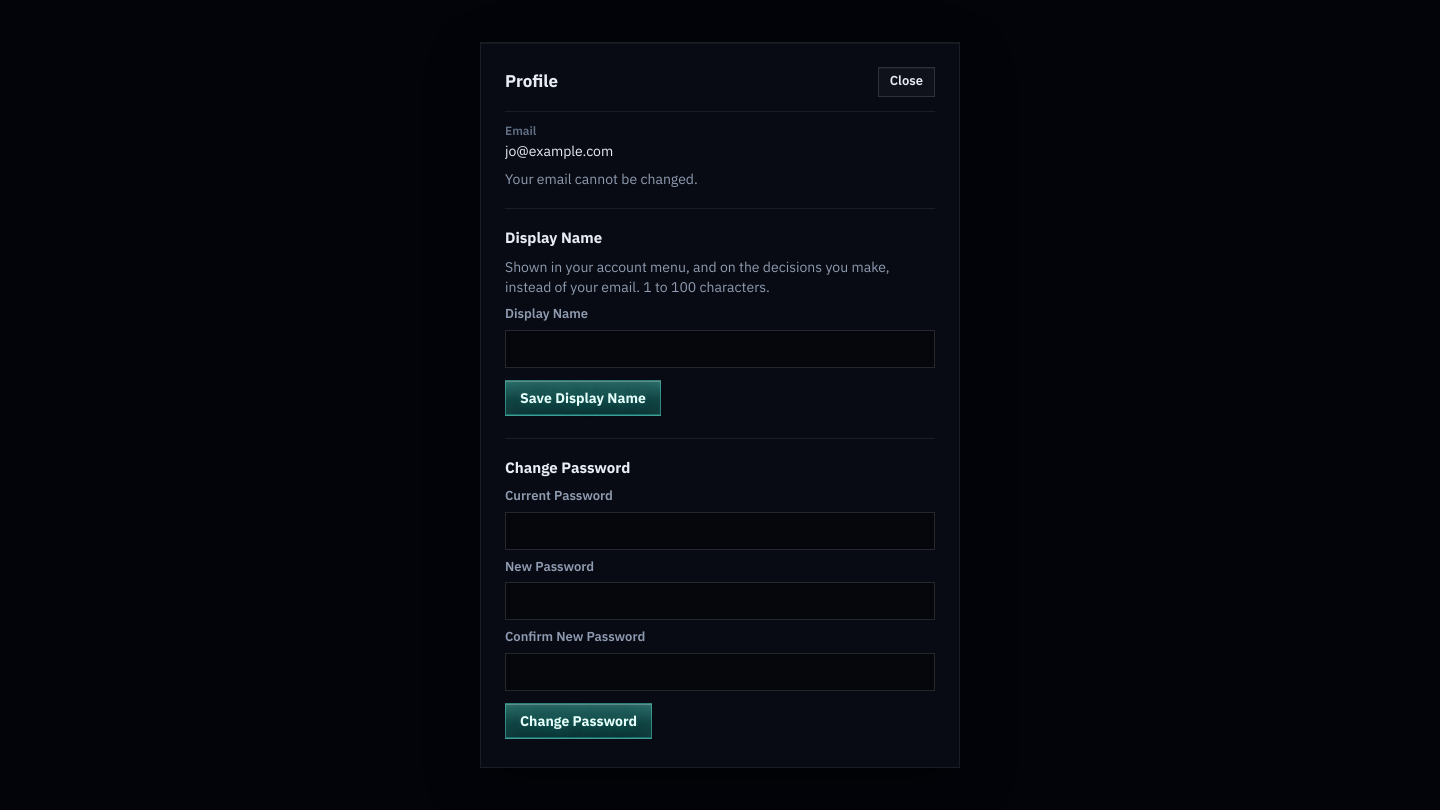
Test case: Profile window: the display name › saves a display name, tells the page the account as it now is, and says it was saved
The image size is (1440, 810).
Type "  Jo Tan " into the field labelled "Display Name" at x=720, y=349, box [505,330,935,368]
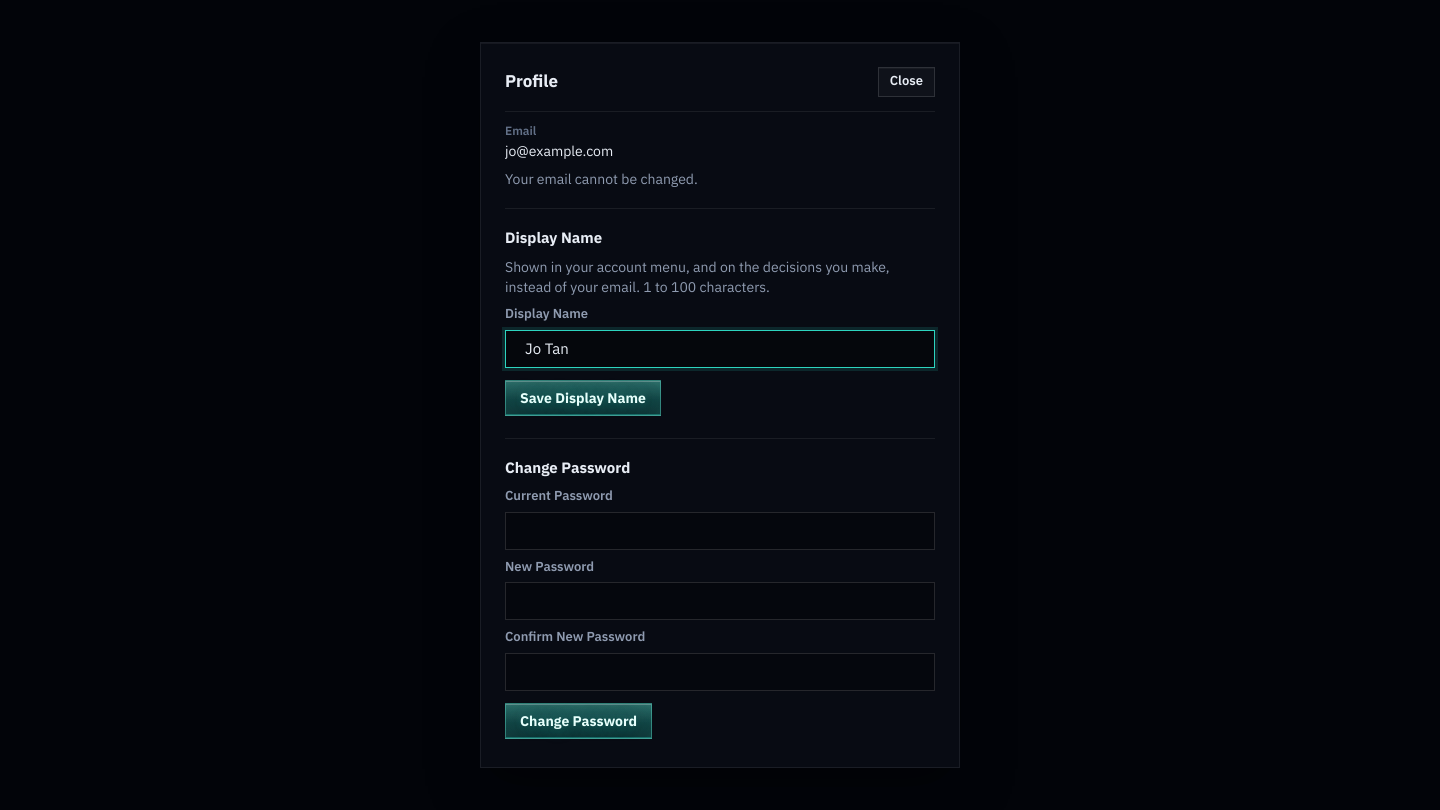
Click the button "Save Display Name" at x=583, y=398, box [505,380,661,416]
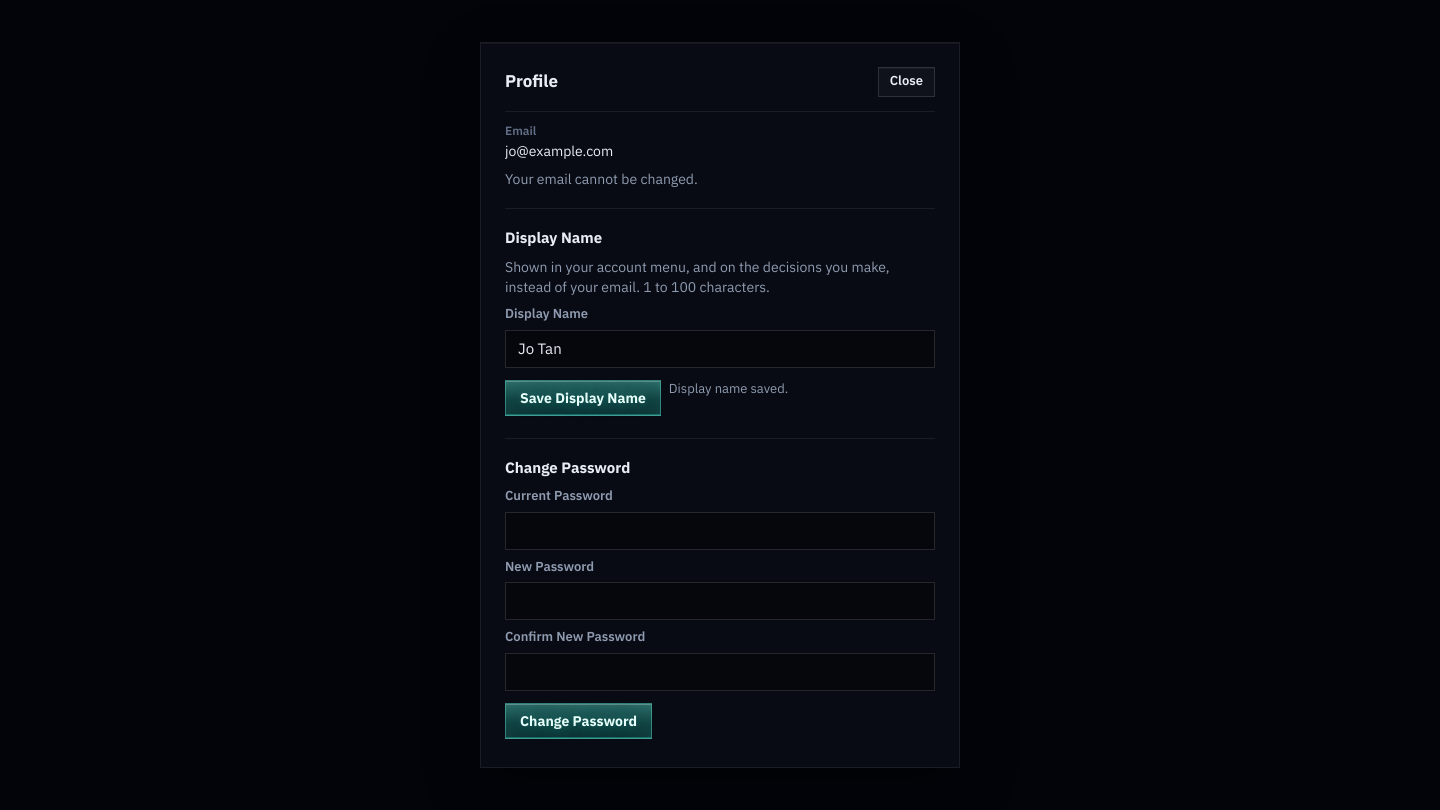
Expected: the text "Display name saved." is shown, [669,380,788,397]
